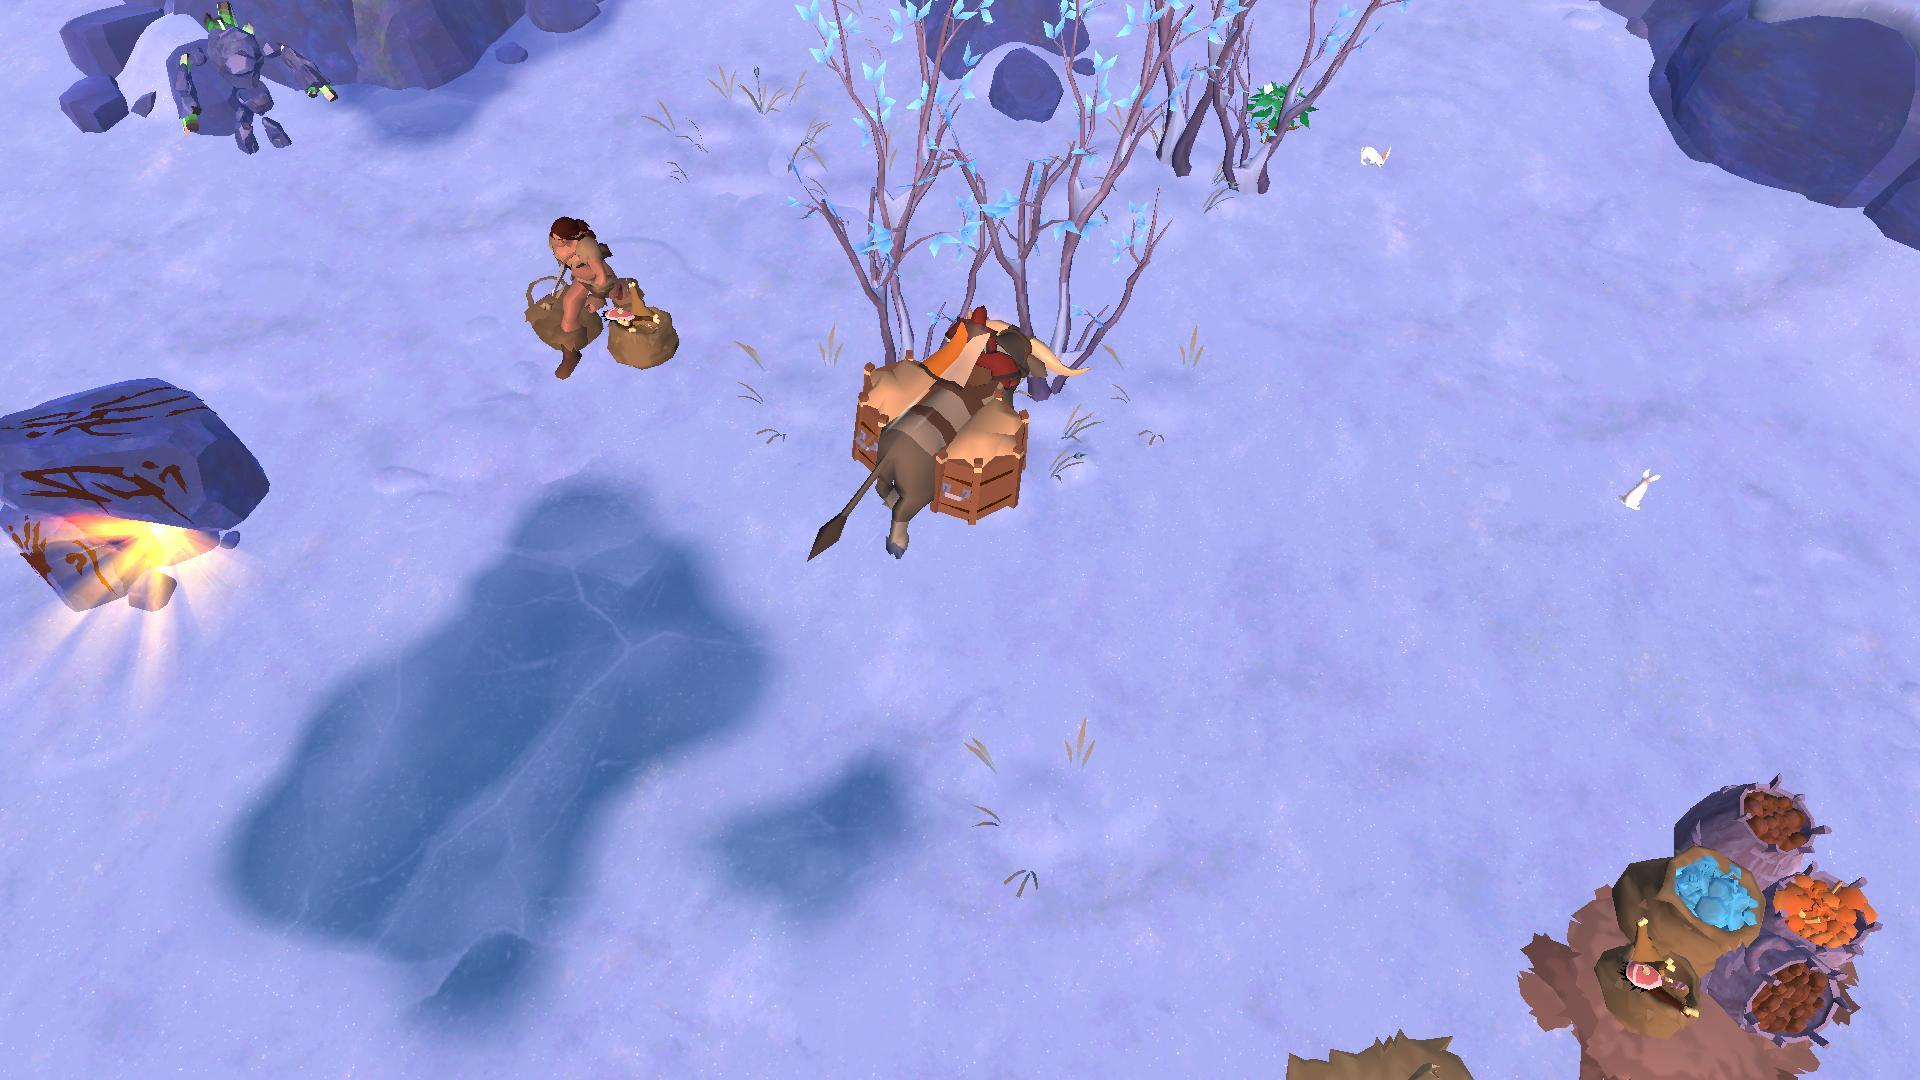enemy_factionKeeper: (534, 203, 630, 364)
fiber_t3: (1241, 75, 1313, 135)
